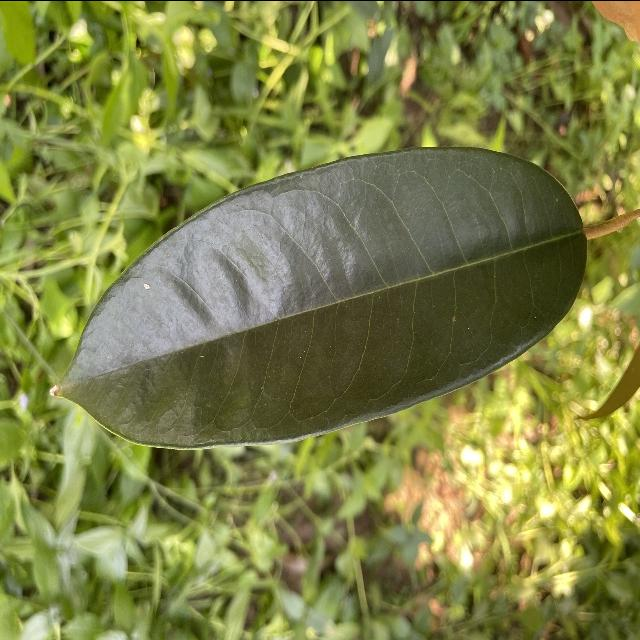No Disease: (43, 133, 601, 461)
